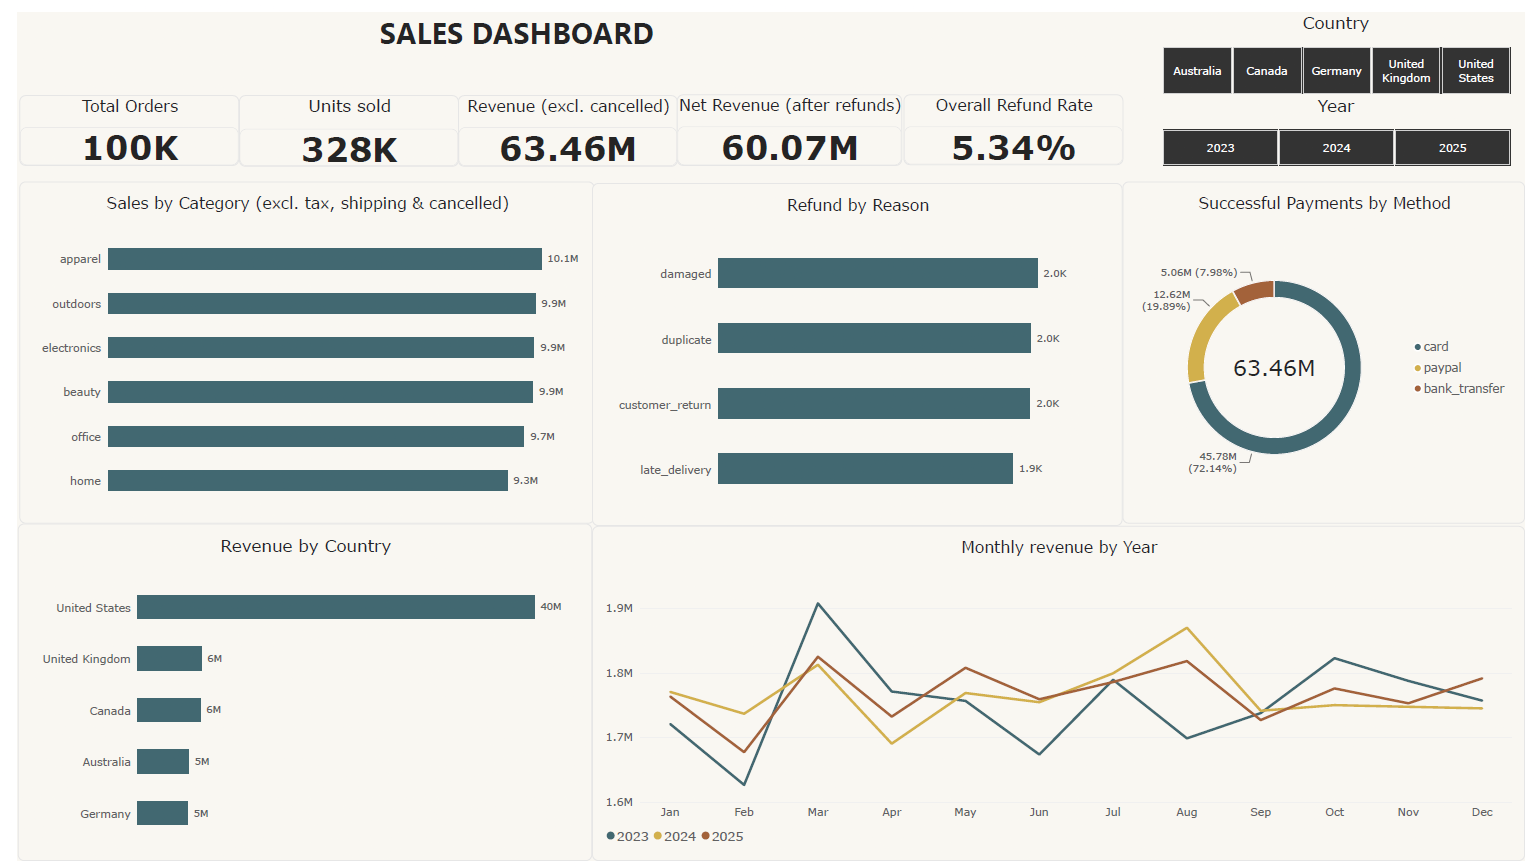

The dashboard page shown, as its layout file describes it:
{"tool":"powerbi","page":{"name":"Overview","canvas":[1920,1080],"ordinal":0},"visuals":[{"type":"cardVisual","title":"Total Orders","fields":{"Data":["All_measures.items_orders"]},"box":[2.4,105,280,90],"z":0},{"type":"cardVisual","title":"Revenue (excl. cancelled)","fields":{"Data":["All_measures.collected_revenue"]},"box":[560.7,105,280,90.7],"z":1},{"type":"cardVisual","title":"Units sold","fields":{"Data":["All_measures.units_sold"]},"box":[281.5,105,280,90.7],"z":2},{"type":"cardVisual","title":"Overall Refund Rate","fields":{"Data":["All_measures.refund_rate_overall"]},"box":[1128.8,104.5,280,90],"z":3},{"type":"lineChart","title":"Monthly revenue by Year","fields":{"Category":["DateTable.Month Name"],"Series":["DateTable.Year"],"Y":["All_measures.collected_revenue"]},"box":[732.5,653.7,1188.2,427.1],"z":4},{"type":"barChart","title":"Sales by Category (excl. tax, shipping & cancelled)","fields":{"Category":["products.category"],"Y":["All_measures.item_sales_net"]},"box":[2.4,214.7,732.5,436.6],"z":5},{"type":"donutChart","title":"Successful Payments by Method","fields":{"Category":["payments.payment_method"],"Y":["All_measures.payments_amount"]},"box":[1407.7,214.7,513,436.6],"z":6},{"type":"barChart","title":"Refund by Reason","fields":{"Category":["refunds.refund_reason"],"Y":["All_measures.refund_count"]},"box":[732.5,217.1,675.2,436.6],"z":7},{"type":"slicer","title":"Year","fields":{"Values":["DateTable.Year"]},"box":[1438.7,105,482,90.7],"z":8},{"type":"slicer","title":"Country","fields":{"Values":["customers.Country"]},"box":[1438.7,0,482,105],"z":10},{"type":"clusteredBarChart","title":"Revenue by Country","fields":{"Category":["customers.Country"],"Y":["All_measures.collected_revenue"]},"box":[0,651.4,732.5,429.5],"z":11},{"type":"cardVisual","title":"Net Revenue (after refunds)","fields":{"Data":["All_measures.net_revenue"]},"box":[840.4,104.5,286.2,90.9],"z":12},{"type":"textbox","box":[0,0,1271.7,93.1],"z":13}]}

Visuals, with their boxes in screenshot pixels (x1, y1, x2, y2), scaled from the page's 1920x1080 canvas onto the 1536x868 screenshot:
"Total Orders" cardVisual: [left=2, top=84, right=226, bottom=157]
"Revenue (excl. cancelled)" cardVisual: [left=449, top=84, right=673, bottom=157]
"Units sold" cardVisual: [left=225, top=84, right=449, bottom=157]
"Overall Refund Rate" cardVisual: [left=903, top=84, right=1127, bottom=156]
"Monthly revenue by Year" lineChart: [left=586, top=525, right=1535, bottom=867]
"Sales by Category (excl. tax, shipping & cancelled)" barChart: [left=2, top=173, right=588, bottom=523]
"Successful Payments by Method" donutChart: [left=1126, top=173, right=1535, bottom=523]
"Refund by Reason" barChart: [left=586, top=174, right=1126, bottom=525]
"Year" slicer: [left=1151, top=84, right=1535, bottom=157]
"Country" slicer: [left=1151, top=0, right=1535, bottom=84]
"Revenue by Country" clusteredBarChart: [left=0, top=524, right=586, bottom=867]
"Net Revenue (after refunds)" cardVisual: [left=672, top=84, right=901, bottom=157]
textbox: [left=0, top=0, right=1017, bottom=75]
